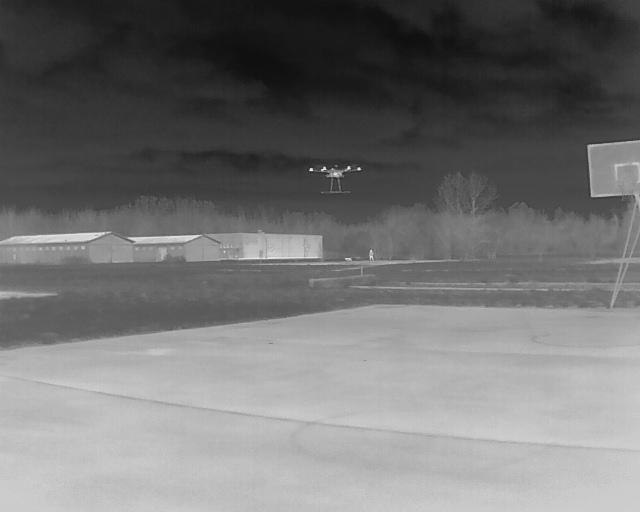drone: (296, 157, 370, 200)
